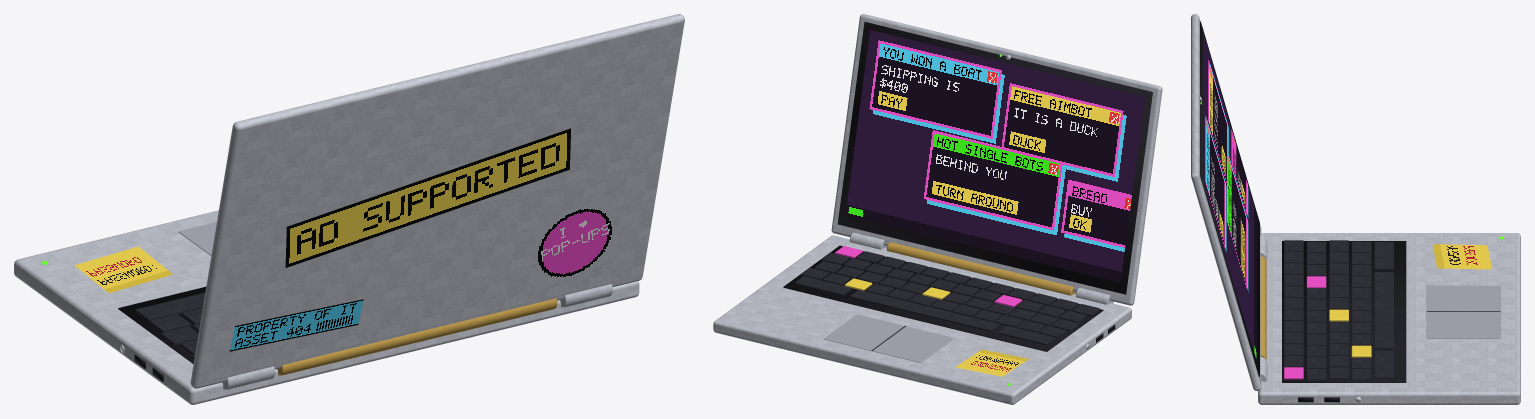
The model's file is w_laptop.glb.
3 renders of one model, left to right at view 1: azimuth 30°, elevation 25°; view 2: azimuth 150°, elevation 25°; view 3: azimuth 270°, elevation 25°, orthographic. The views are drawn at different scales.
Visible parts, largest first — view 1: lid_wzB, lp_deck_wzA, lp_deck_wzB, lp_deck_wzN; view 2: lid_wzB, lp_deck_wzA, lp_deck_wzB, lp_deck_wzN; view 3: lp_deck_wzA, lp_deck_wzB, lid_wzB, lp_deck_wzN.
Boxes of the visible parts, x1,y1,x2,y2 form: lid_wzB: [190, 14, 684, 388]; lp_deck_wzA: [14, 210, 639, 404]; lp_deck_wzB: [118, 286, 557, 381]; lp_deck_wzN: [42, 246, 172, 293]; lid_wzB: [831, 14, 1162, 305]; lp_deck_wzA: [713, 232, 1131, 404]; lp_deck_wzB: [783, 242, 1115, 351]; lp_deck_wzN: [835, 246, 1028, 385]; lp_deck_wzA: [1258, 233, 1520, 404]; lp_deck_wzB: [1260, 240, 1500, 402]; lid_wzB: [1191, 14, 1261, 390]; lp_deck_wzN: [1284, 236, 1503, 379].
Bounding box in the file's own units: 0.3208 × 0.2155 × 0.2761.
Materials: 15 (7 with a texture image).
